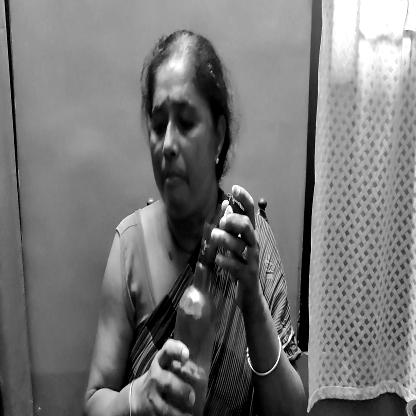Distracted: (142, 36, 222, 222)
